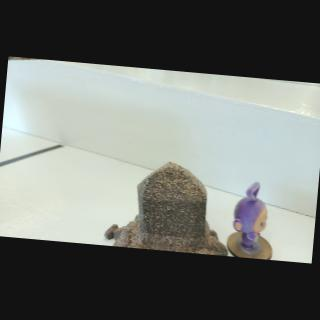teletubby: (233, 182, 267, 251)
